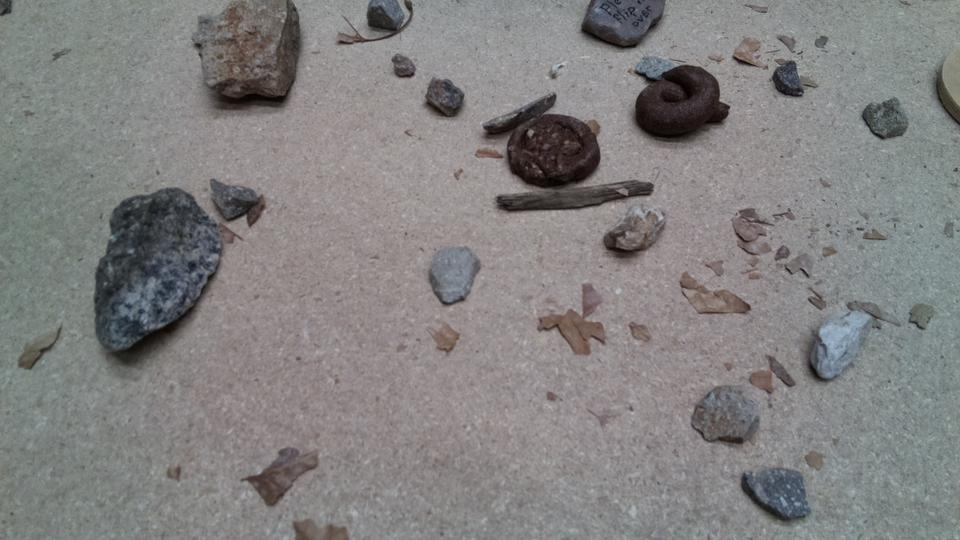poop: (633, 63, 732, 143), (503, 112, 603, 186)
